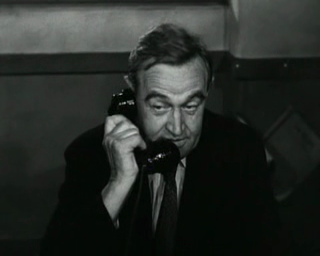face: (137, 79, 208, 158)
mcu: (1, 1, 320, 256)
person: (50, 22, 287, 256)
